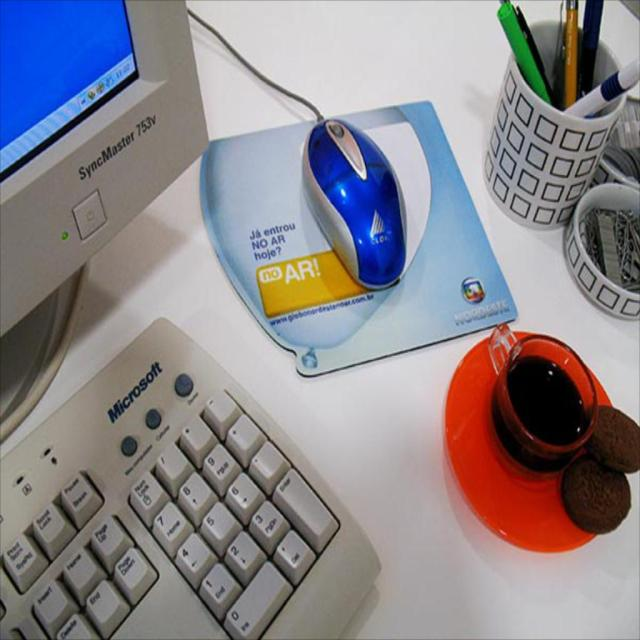Computer-mouse: (298, 112, 405, 293)
